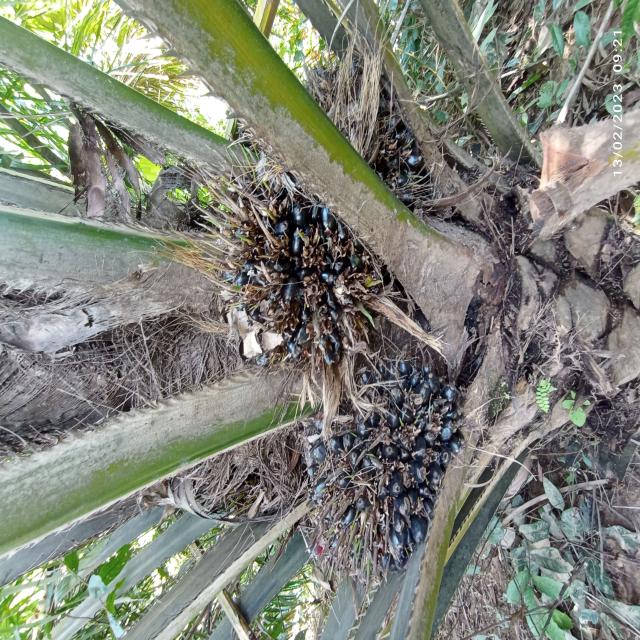fraksi 00: (170, 123, 394, 385), (260, 364, 502, 586)
